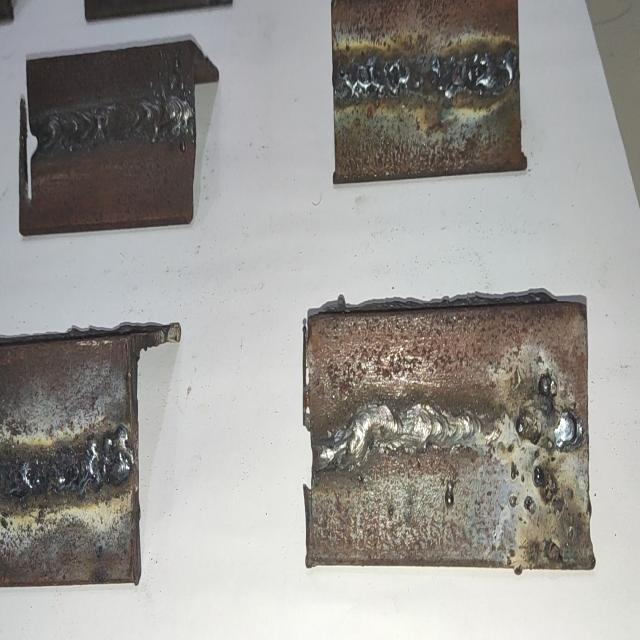Defect: (508, 371, 582, 558), (338, 54, 518, 101), (9, 436, 128, 504)
Welding Line: (317, 405, 494, 468), (39, 100, 188, 148)
Workpiece: (304, 295, 594, 572), (18, 35, 195, 236), (333, 0, 525, 184), (0, 332, 134, 594)
